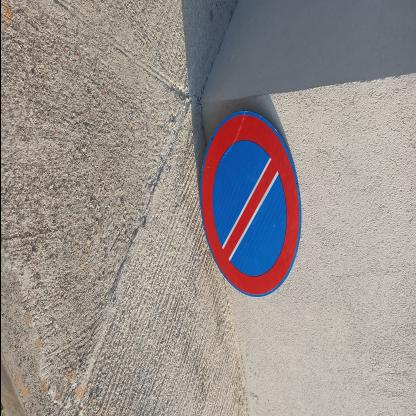No Waiting: (201, 114, 301, 298)
